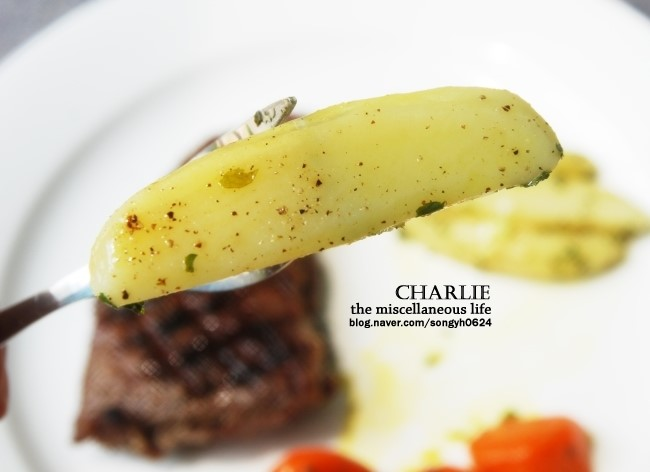boiled potatoes: (95, 135, 582, 250)
